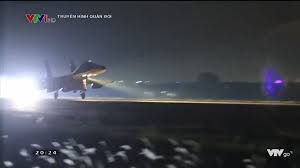maybay_muctieu: (30, 45, 128, 116)
